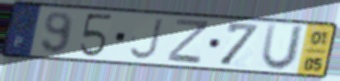5: (78, 12, 116, 59)
7: (220, 21, 261, 68)
9: (40, 10, 75, 56)
J: (127, 16, 165, 62)
U: (258, 22, 307, 73)
Z: (165, 17, 212, 66)
